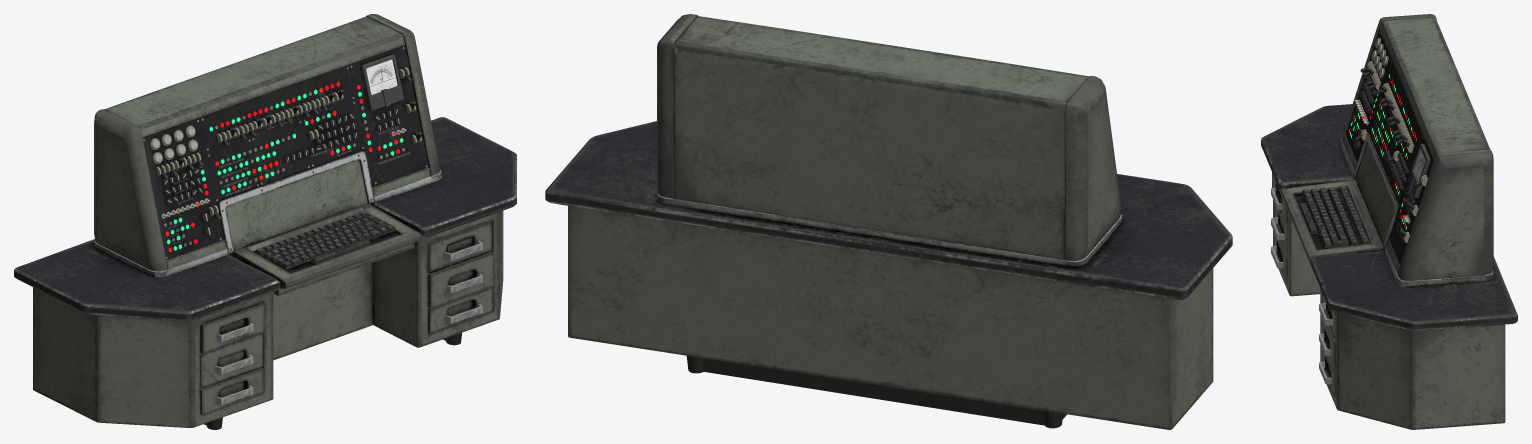
Rendered from univac_computer_compressed.glb.
3 views of the same model, side by side, from view 1: azimuth 30°, elevation 25°; view 2: azimuth 150°, elevation 25°; view 3: azimuth 270°, elevation 25° (orthographic). The views are drawn at different scales.
Parts seen in each view (by area): view 1: computer, keyboard, Meter_panel; view 2: computer, Legs; view 3: computer, keyboard, Meter_panel.
Boxes of the visible parts, x1=… form: computer: x1=14, y1=14, x2=516, y2=427; keyboard: x1=255, y1=211, x2=395, y2=269; Meter_panel: x1=361, y1=54, x2=403, y2=110; computer: x1=545, y1=14, x2=1232, y2=429; Legs: x1=686, y1=356, x2=1066, y2=428; computer: x1=1261, y1=14, x2=1517, y2=429; keyboard: x1=1299, y1=186, x2=1369, y2=248; Meter_panel: x1=1407, y1=143, x2=1430, y2=198.
Size of the model in its own units: 3.68 by 1.94 by 1.78.
Materials: 11 (11 with a texture image).
